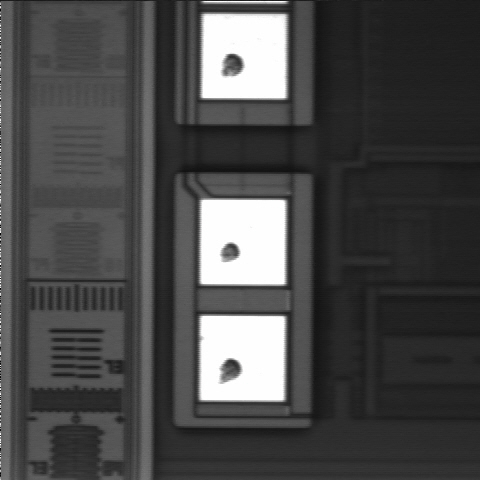pad: (200, 316, 285, 401), (201, 200, 285, 285), (202, 14, 286, 98)
